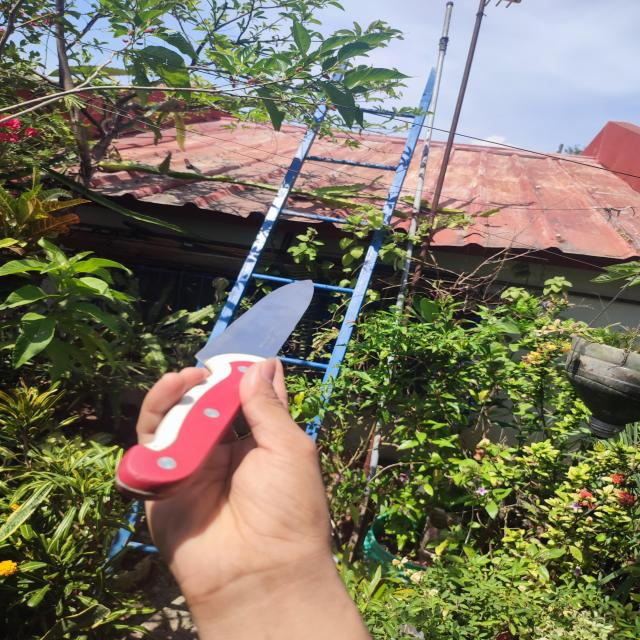knife: (119, 279, 314, 498)
